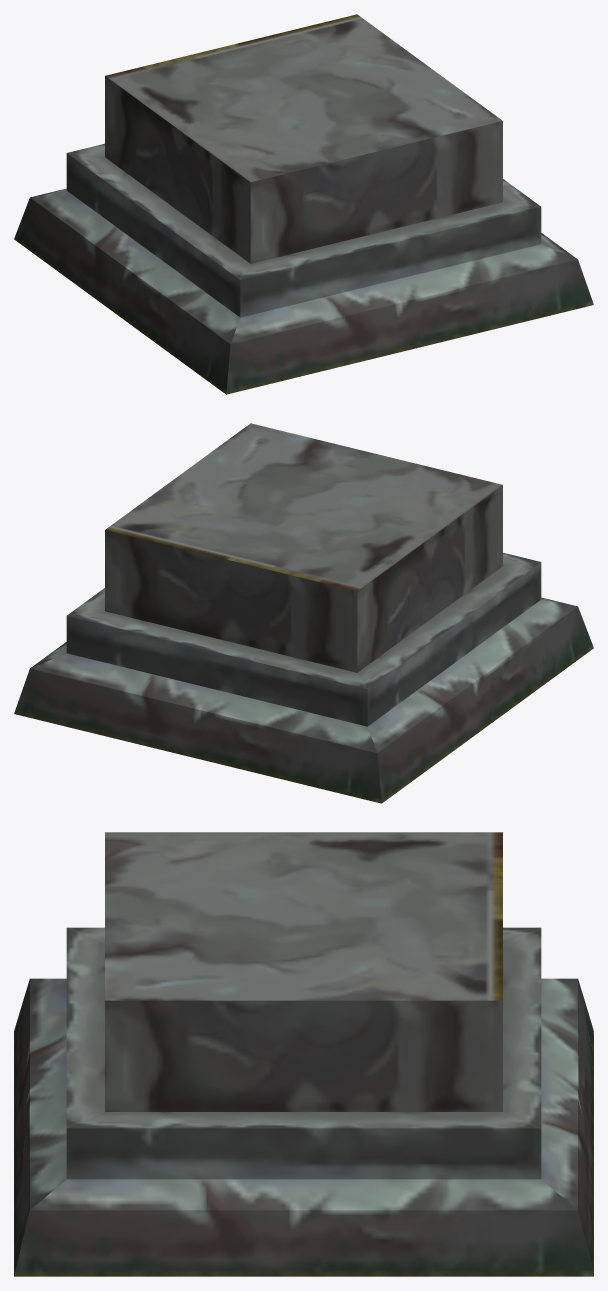
The model's file is shilianzhidi1_shizhu_002.FBX.
The picture shows the model from 3 angles, top to bottom: view 1: azimuth 30°, elevation 25°; view 2: azimuth 150°, elevation 25°; view 3: azimuth 270°, elevation 25°; orthographic projection. The views are drawn at different scales.
Parts seen in each view (by area): view 1: shilianzhidi1_shizhu2; view 2: shilianzhidi1_shizhu2; view 3: shilianzhidi1_shizhu2.
Boxes of the visible parts, bbox=[...] form: shilianzhidi1_shizhu2: bbox=[14, 14, 593, 394]; shilianzhidi1_shizhu2: bbox=[14, 423, 593, 803]; shilianzhidi1_shizhu2: bbox=[14, 832, 593, 1276].
Size of the model in its own units: 369 by 369 by 167.
1 material, 1 textured.
